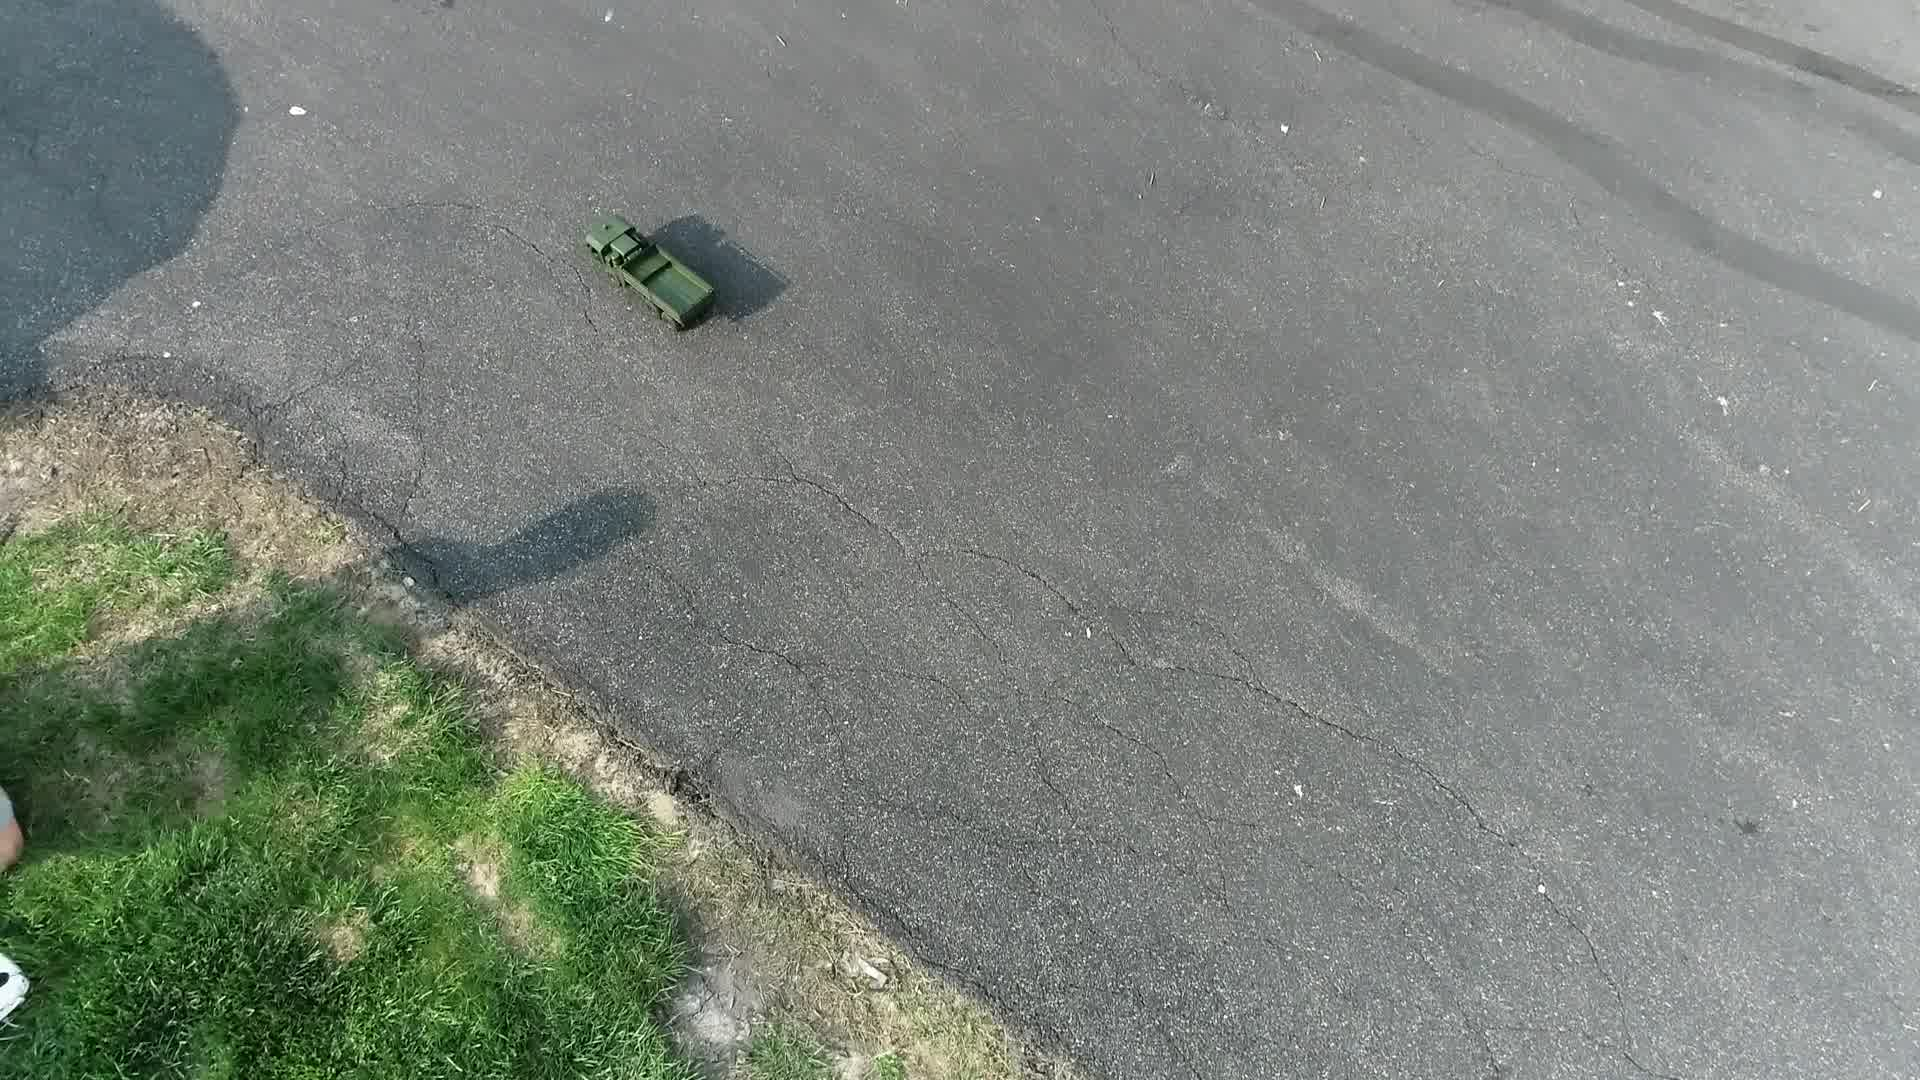transporter9: (582, 214, 721, 342)
